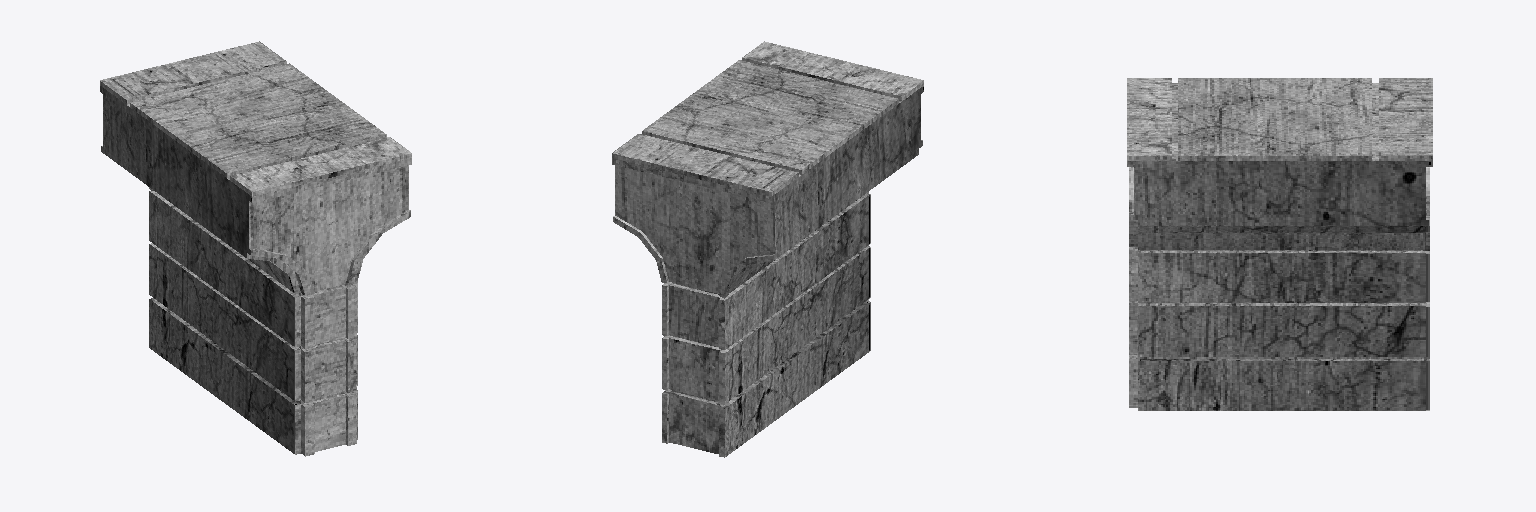
The picture shows the model from 3 angles: view 1: azimuth 30°, elevation 25°; view 2: azimuth 150°, elevation 25°; view 3: azimuth 270°, elevation 25°; orthographic projection.
Parts seen in each view (by area): view 1: pCube1; view 2: pCube1; view 3: pCube1.
Part boxes in pixels (bbox=[...]): pCube1: bbox=[100, 41, 411, 456]; pCube1: bbox=[612, 41, 923, 457]; pCube1: bbox=[1127, 78, 1432, 410].
Bounding box in the file's own units: 6.24 × 10.37 × 10.31.
Materials: 1 (1 with a texture image).